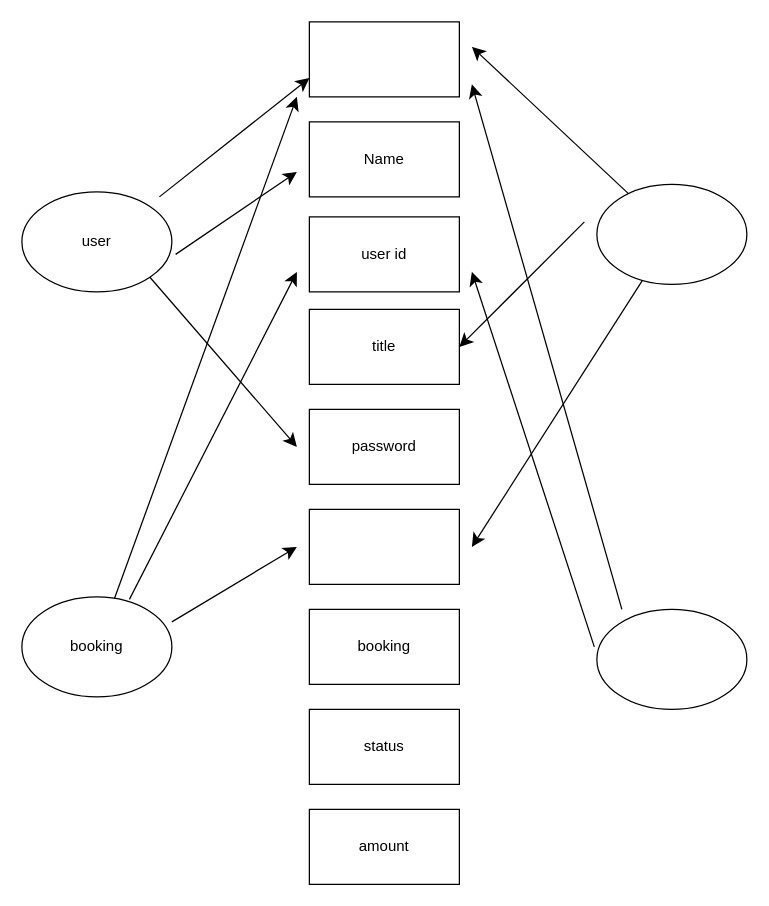
This 769x906 diagram has some shape labels left out. The centre of each missing label's shape, as x and y in pixels:
ID: point 383,59
property: point 671,233
property id: point 383,546
review: point 671,658
